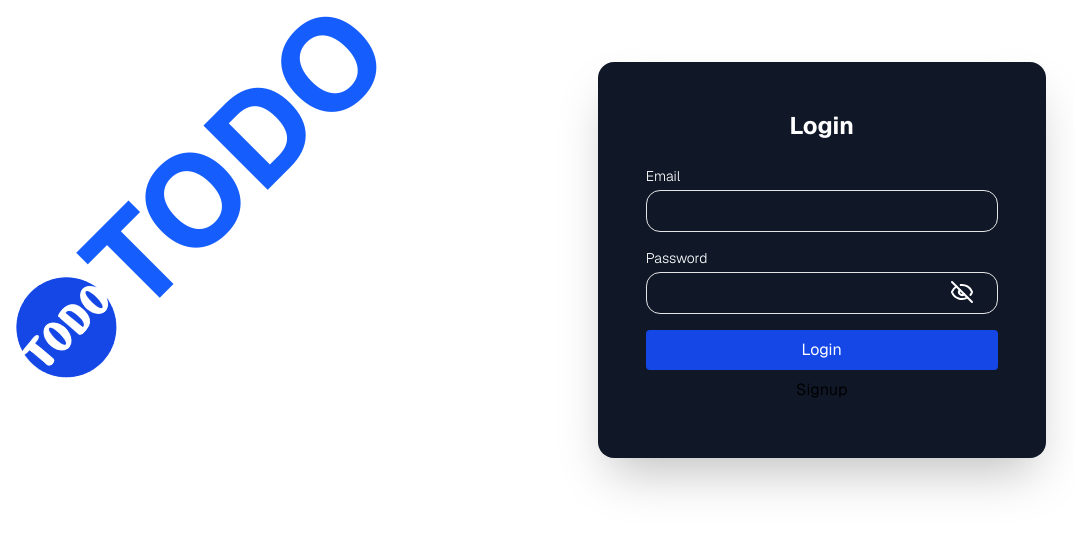
Login Flow Integration › shows validation errors for empty fields
Step 1. Click the button "Login" → (822, 350), box top-left (646, 330), bottom-right (998, 370)
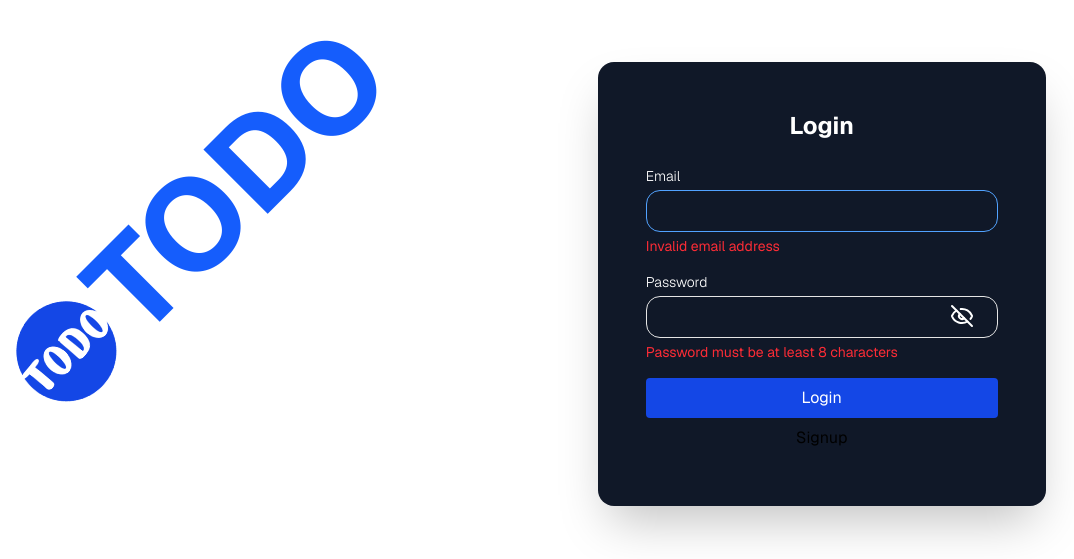
Now the text "Invalid email address" is shown, box top-left (646, 237), bottom-right (780, 255)
Now the text "Password must be at least 8 characters" is shown, box top-left (646, 343), bottom-right (898, 361)
